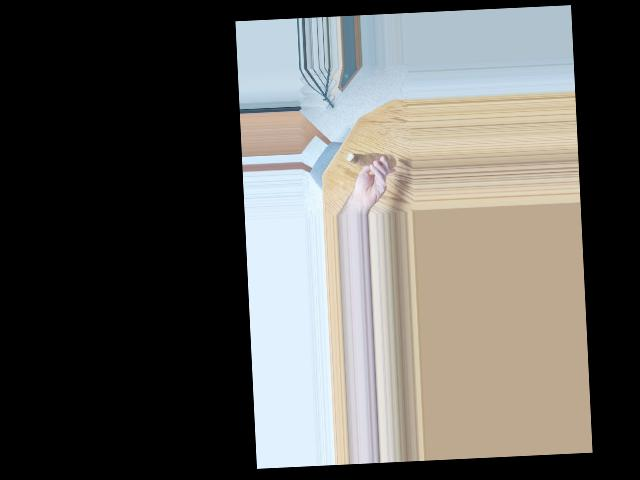sweet_potato: (342, 151, 396, 169)
